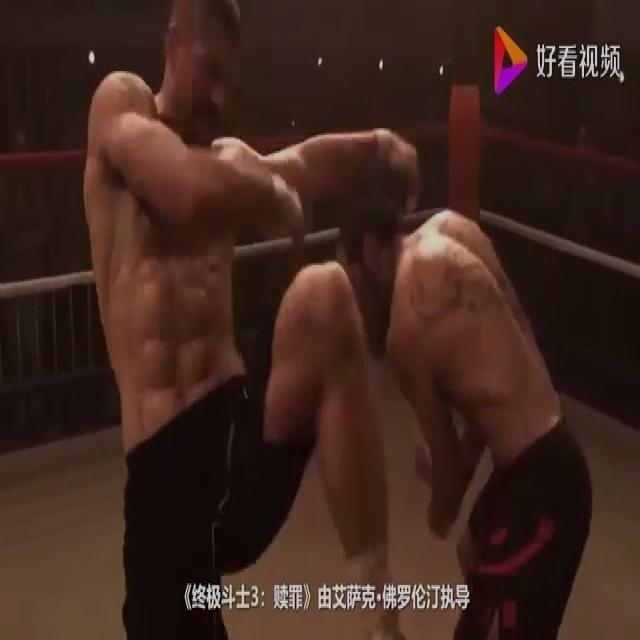fight: (67, 0, 627, 638)
